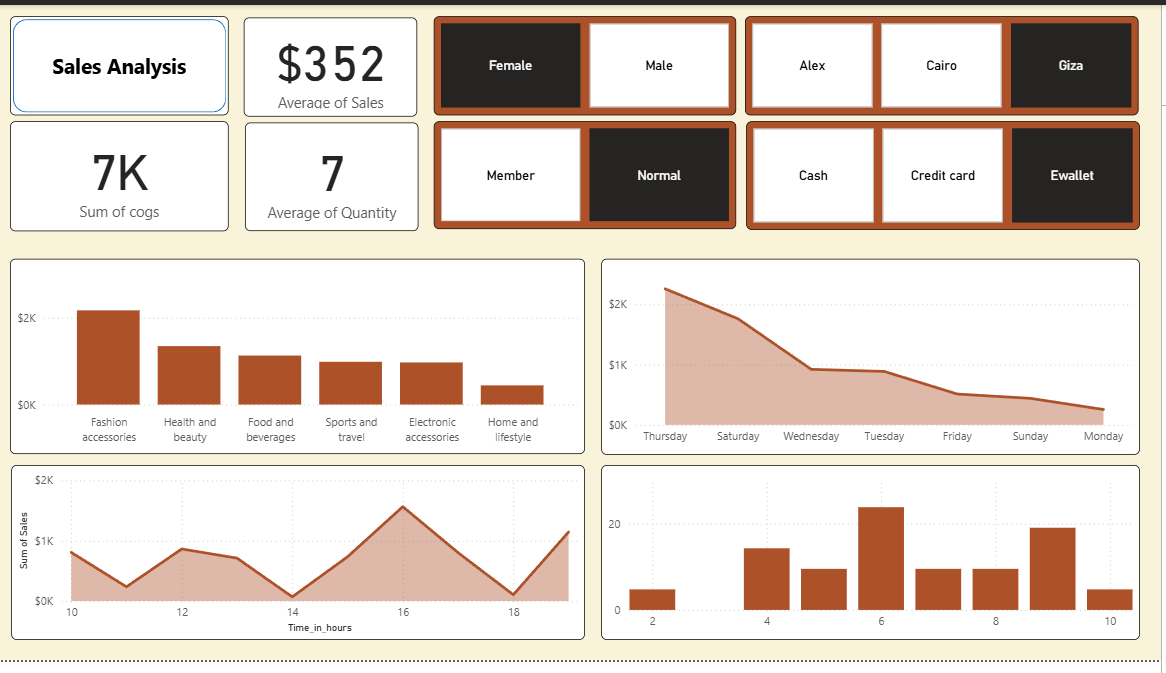

What the dashboard file says about the page in this screenshot:
{"tool":"powerbi","page":{"name":"Page 1","canvas":[1280,720],"ordinal":0},"visuals":[{"type":"areaChart","fields":{"Category":["SuperMarket Analysis.Time_in_hours"],"Y":["Sum(SuperMarket Analysis.Sales)"]},"box":[17.8,505,629.8,192.1],"z":0},{"type":"advancedSlicerVisual","fields":{"Values":["SuperMarket Analysis.Gender"]},"box":[481.6,12.3,332.1,108.4],"z":1000},{"type":"advancedSlicerVisual","fields":{"Values":["SuperMarket Analysis.Branch"]},"box":[823.3,12.3,432.2,108.4],"z":2000},{"type":"advancedSlicerVisual","fields":{"Values":["SuperMarket Analysis.Payment"]},"box":[824.7,127.6,432.2,119.4],"z":3000},{"type":"card","fields":{"Values":["Avg(SuperMarket Analysis.Sales)"]},"box":[273.1,13.7,190.7,108.4],"z":4000},{"type":"lineClusteredColumnComboChart","fields":{"Category":["SuperMarket Analysis.Quantity"],"Y":["Sum(SuperMarket Analysis.gross margin percentage)"]},"box":[665.5,505,591.4,192.1],"z":5000},{"type":"advancedSlicerVisual","fields":{"Values":["SuperMarket Analysis.Customer type"]},"box":[481.6,127.6,332.1,118],"z":6000},{"type":"card","fields":{"Values":["Avg(SuperMarket Analysis.Quantity)"]},"box":[274.4,129,190.7,119.4],"z":7000},{"type":"columnChart","fields":{"Category":["SuperMarket Analysis.Product line"],"Y":["Sum(SuperMarket Analysis.Sales)"]},"box":[16.5,278.6,631.2,214.1],"z":8000},{"type":"areaChart","fields":{"Category":["SuperMarket Analysis.Day_name"],"Y":["Sum(SuperMarket Analysis.Sales)"]},"box":[665.5,278.6,591.4,215.4],"z":8001},{"type":"shape","box":[16.5,12.3,240.1,108.4],"z":8002},{"type":"card","fields":{"Values":["Sum(SuperMarket Analysis.cogs)"]},"box":[16.5,127.6,240.1,120.8],"z":8003}]}

Visuals, with their boxes in screenshot pixels (x1, y1, x2, y2), scaled from the page's 1280x720 canvas onto the 1166x673 screenshot:
areaChart - SuperMarket Analysis.Time_in_hours x Sum(SuperMarket Analysis.Sales): bbox=(16, 472, 590, 652)
advancedSlicerVisual - SuperMarket Analysis.Gender: bbox=(439, 11, 741, 113)
advancedSlicerVisual - SuperMarket Analysis.Branch: bbox=(750, 11, 1144, 113)
advancedSlicerVisual - SuperMarket Analysis.Payment: bbox=(751, 119, 1145, 231)
card - Avg(SuperMarket Analysis.Sales): bbox=(249, 13, 422, 114)
lineClusteredColumnComboChart - SuperMarket Analysis.Quantity x Sum(SuperMarket Analysis.gross margin percentage): bbox=(606, 472, 1145, 652)
advancedSlicerVisual - SuperMarket Analysis.Customer type: bbox=(439, 119, 741, 230)
card - Avg(SuperMarket Analysis.Quantity): bbox=(250, 121, 424, 232)
columnChart - SuperMarket Analysis.Product line x Sum(SuperMarket Analysis.Sales): bbox=(15, 260, 590, 461)
areaChart - SuperMarket Analysis.Day_name x Sum(SuperMarket Analysis.Sales): bbox=(606, 260, 1145, 462)
shape: bbox=(15, 11, 234, 113)
card - Sum(SuperMarket Analysis.cogs): bbox=(15, 119, 234, 232)
